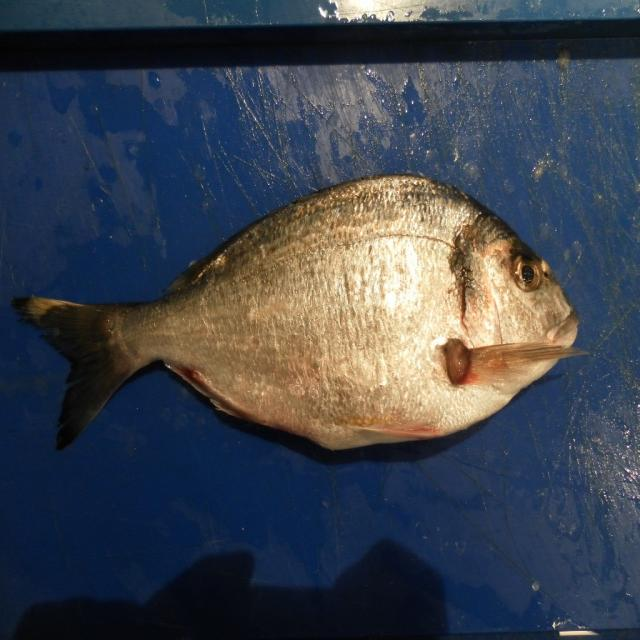Gilt-Head-Bream-c-ipura-: (12, 174, 582, 454)
